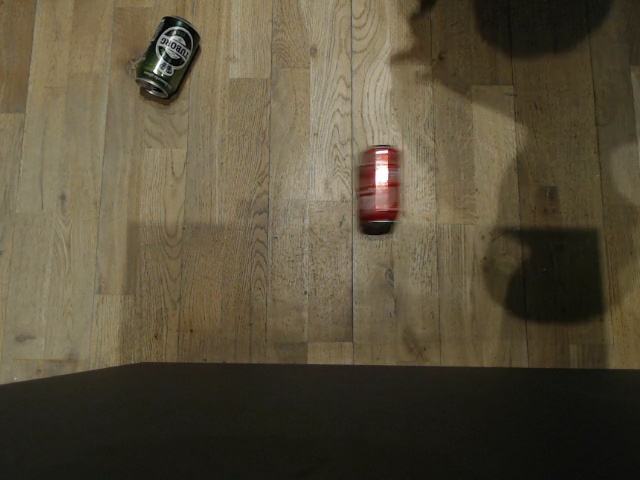beer: (131, 15, 203, 103)
cola: (355, 144, 402, 227)
